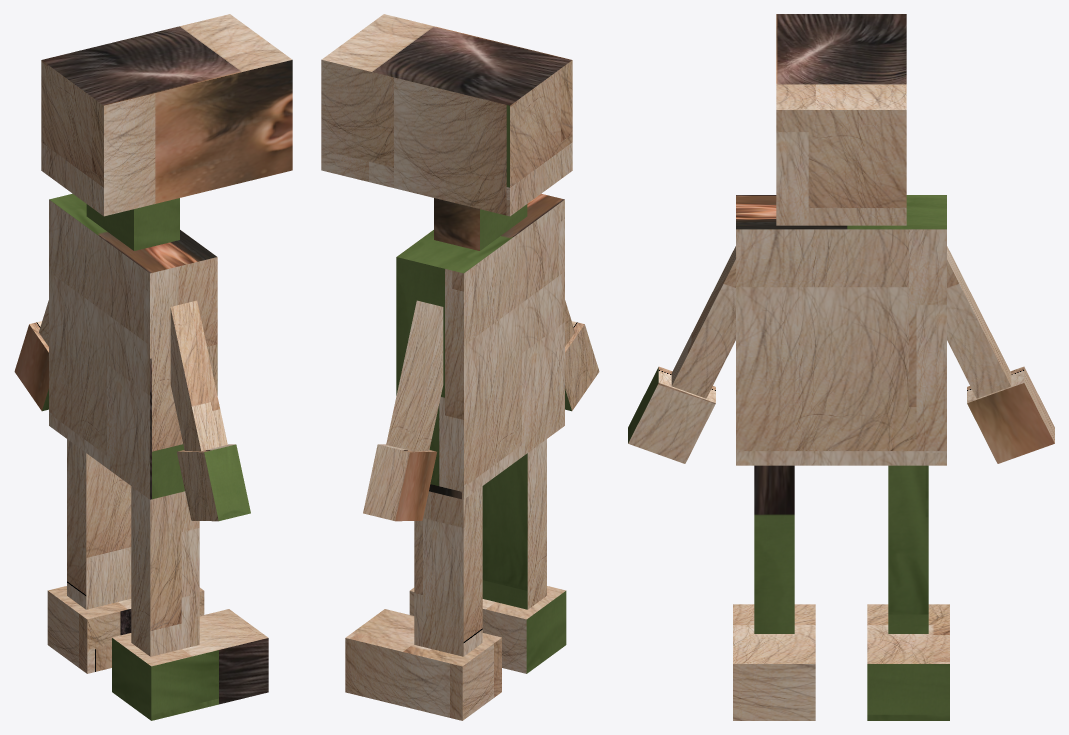
Rendered from test_guy_hd.obj.
3 views of the same model, side by side, from view 1: azimuth 30°, elevation 25°; view 2: azimuth 150°, elevation 25°; view 3: azimuth 270°, elevation 25° (orthographic). The views are drawn at different scales.
Visible parts, largest first — view 1: Cube.006; view 2: Cube.006; view 3: Cube.006.
Part boxes in pixels (x1,y1,x2,y2): Cube.006: (14,14,292,720); Cube.006: (321,14,599,720); Cube.006: (628,14,1054,720).
Size of the model in its own units: 3.33 by 10.23 by 6.25.
